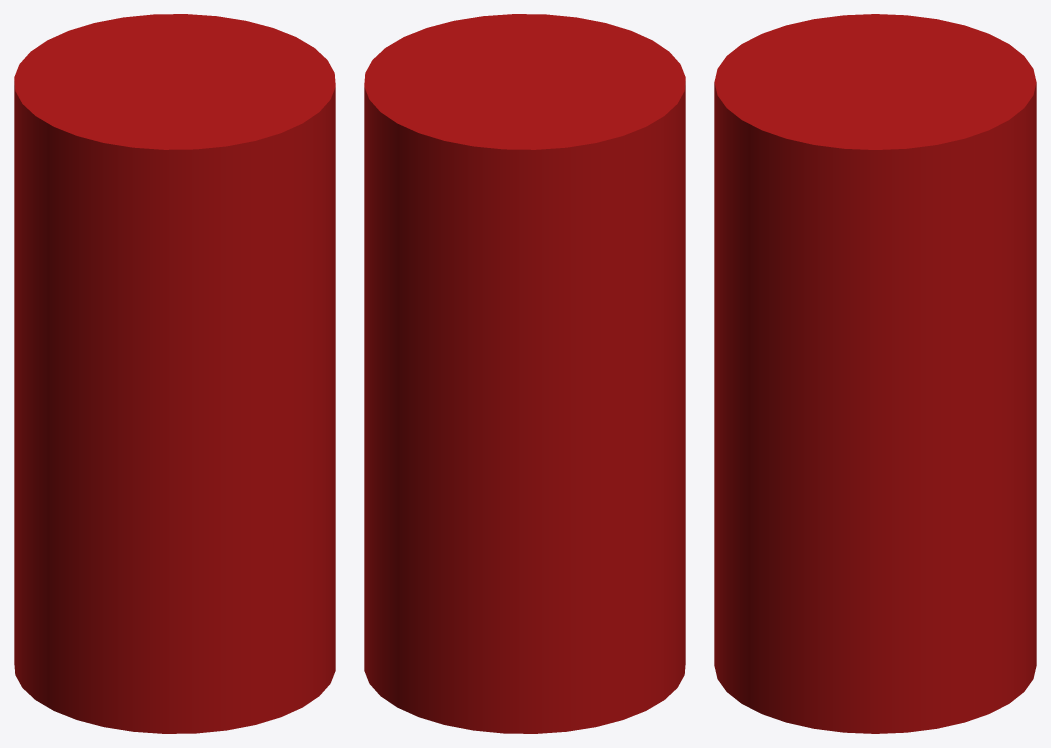
Rendered from Pill_Bottle_1.glb.
The picture shows the model from 3 angles, left to right: view 1: azimuth 30°, elevation 25°; view 2: azimuth 150°, elevation 25°; view 3: azimuth 270°, elevation 25°; orthographic projection.
Visible parts, largest first — view 1: Part; view 2: Part; view 3: Part.
Part boxes in pixels (<box>): Part: <box>14,14,335,733</box>; Part: <box>364,14,685,733</box>; Part: <box>714,14,1036,733</box>.
Bounding box in the file's own units: 0.0254 × 0.0508 × 0.0254.
